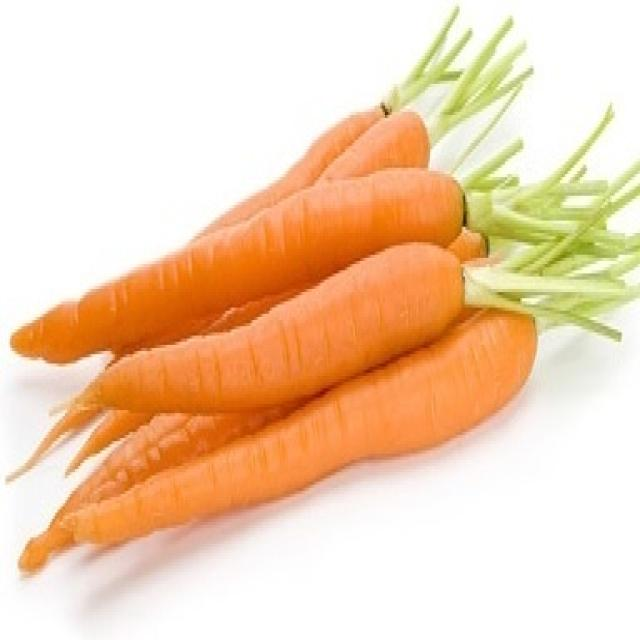Fresh_Carrot: (21, 96, 504, 534), (18, 316, 538, 596), (23, 169, 473, 378), (74, 271, 464, 421)
